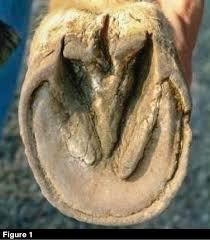horsesole: (17, 34, 194, 227)
